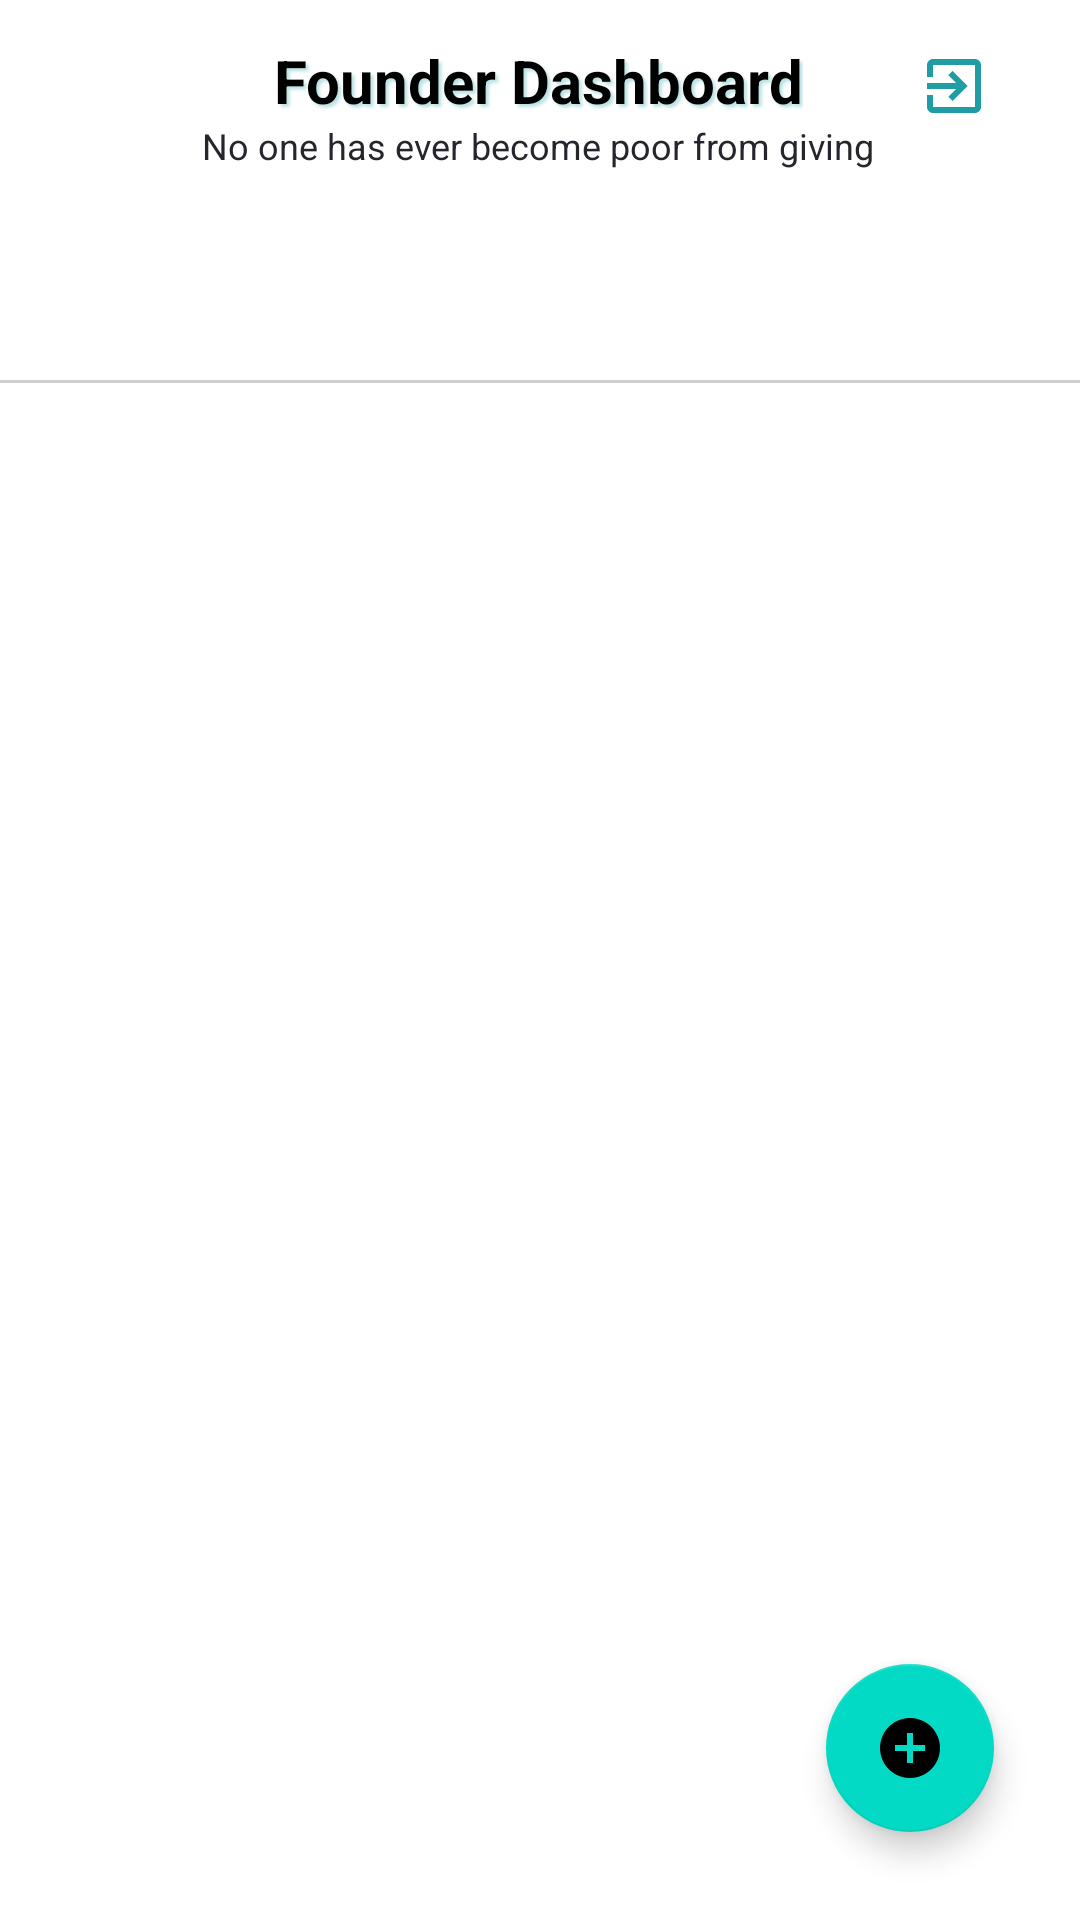

Point at icon controls on the screen. Image size 1080w x 1920h, points as (x,y).
add: (910,1748)
exit to app: (954,86)
